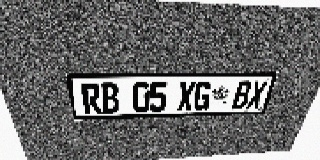0: (132, 82, 150, 113)
5: (150, 82, 167, 112)
B: (100, 82, 120, 114), (231, 81, 253, 109)
G: (192, 81, 213, 111)
R: (80, 83, 102, 114)
X: (246, 81, 268, 109), (177, 82, 196, 111)
